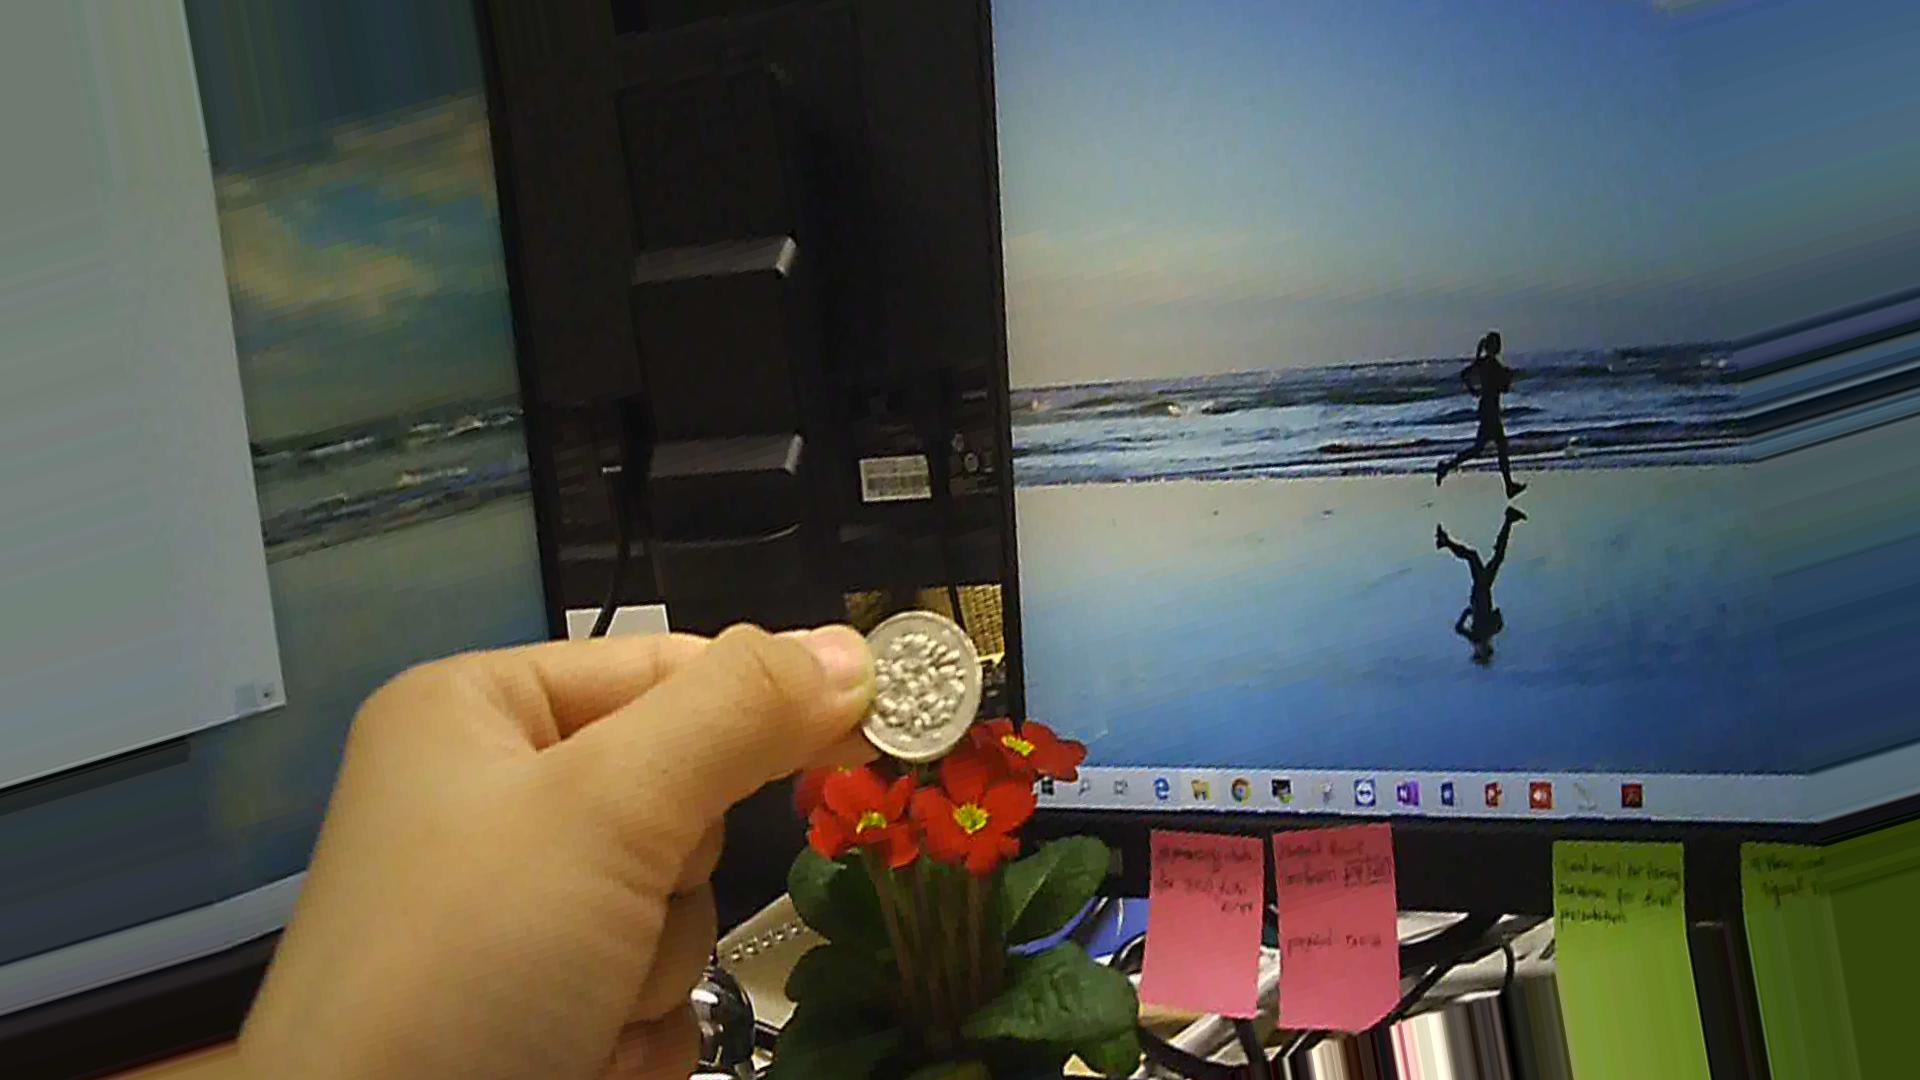100 Yen: (841, 589, 977, 758)
